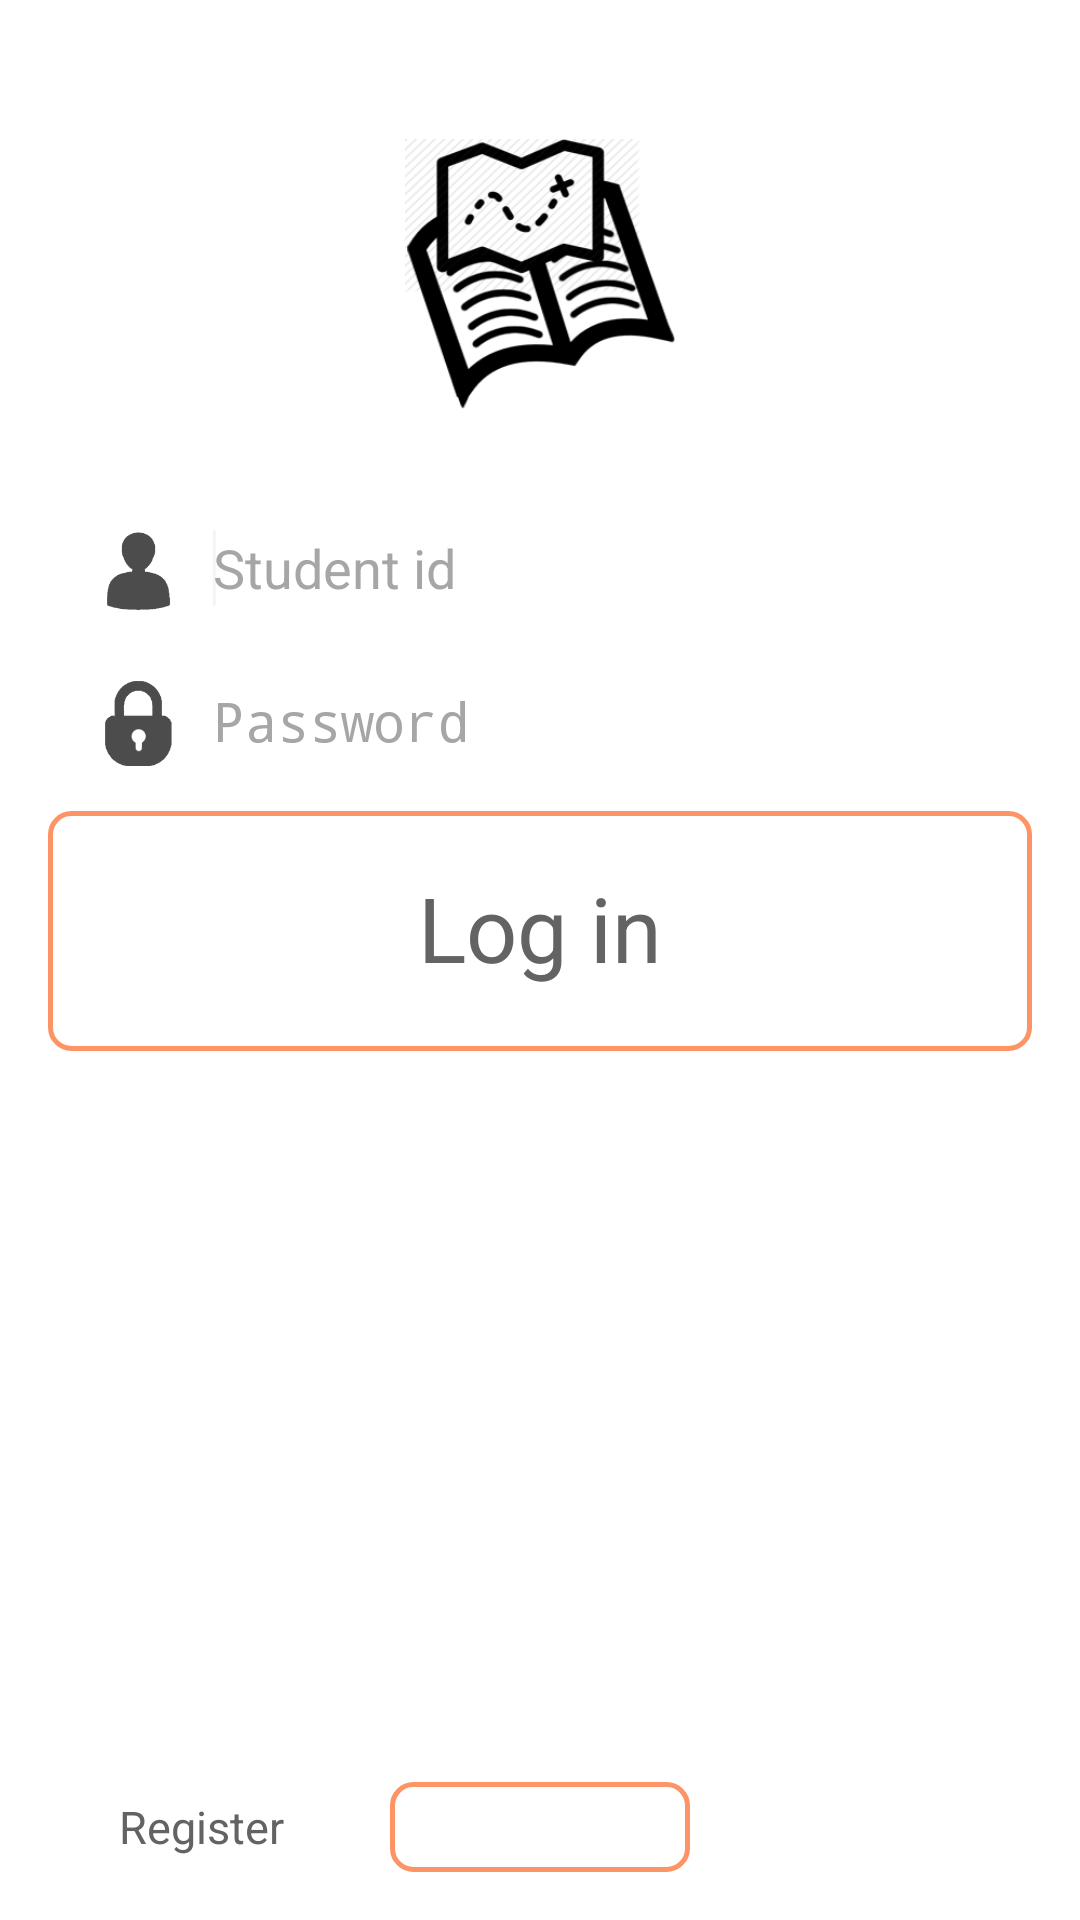

Named icons in this screenshot (1080px×1920px) and their bounding boxes, bbox(x1, y1, x2, y2):
mapicon: bbox(405, 139, 675, 408)
